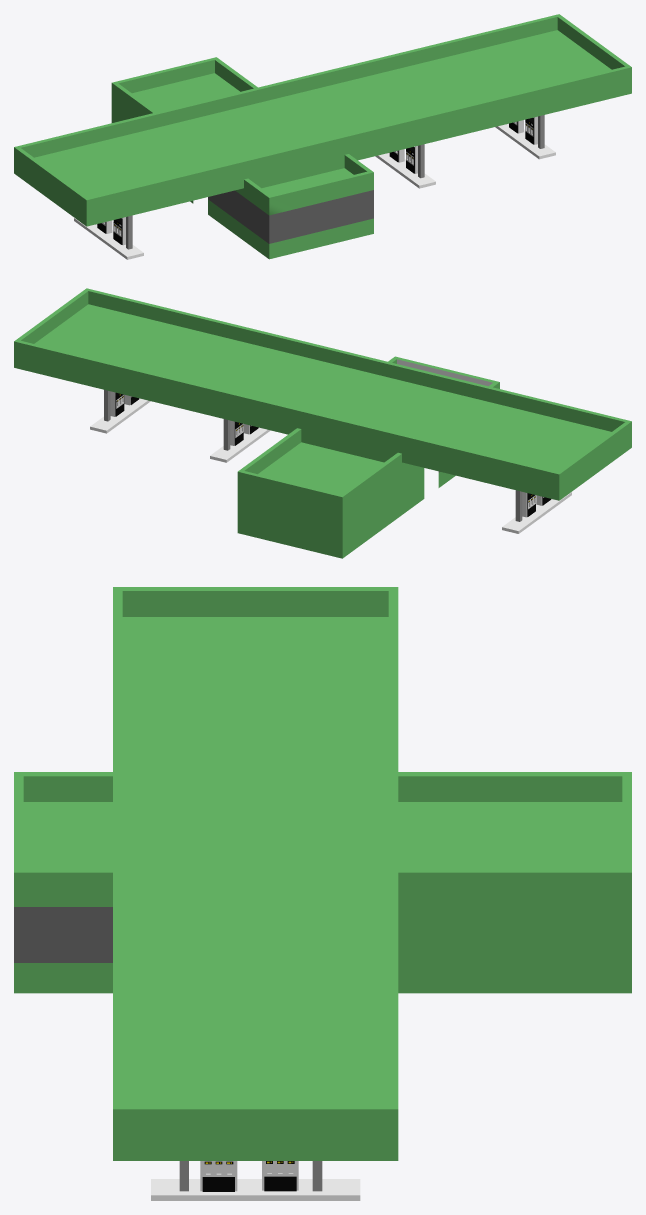
Rendered from gas_station3.glb.
The picture shows the model from 3 angles, top to bottom: view 1: azimuth 30°, elevation 25°; view 2: azimuth 150°, elevation 25°; view 3: azimuth 270°, elevation 25°; orthographic projection. The views are drawn at different scales.
Visible parts, largest first — view 1: SketchUp.003_ID76; view 2: SketchUp.003_ID76; view 3: SketchUp.003_ID76.
Part boxes in pixels (box(x1,y1,x2,y2)): SketchUp.003_ID76: box(14, 14, 631, 259); SketchUp.003_ID76: box(14, 288, 631, 558); SketchUp.003_ID76: box(14, 587, 631, 1200).
Bounding box in the file's own units: 39.62 × 5.49 × 19.81.
